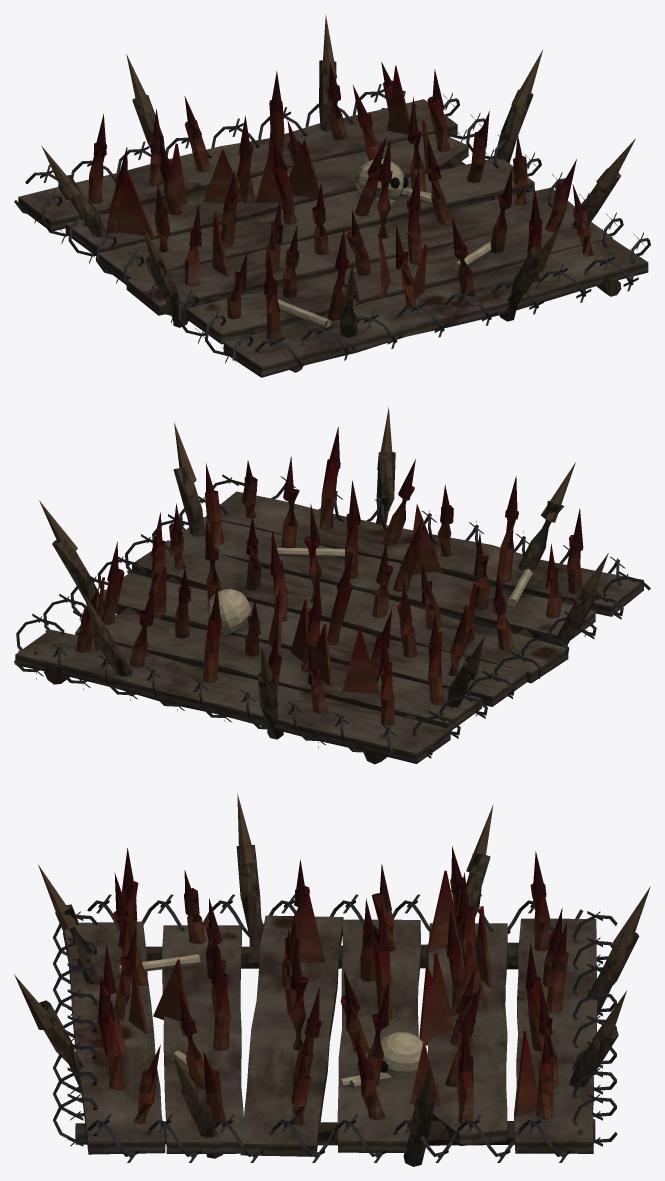
The model's file is spikes.glb.
3 renders of one model, top to bottom at view 1: azimuth 30°, elevation 25°; view 2: azimuth 150°, elevation 25°; view 3: azimuth 270°, elevation 25°, orthographic. The views are drawn at different scales.
Visible parts, largest first — view 1: Lv1, Lv2, Lv3; view 2: Lv1, Lv2, Lv3; view 3: Lv1, Lv2, Lv3.
Boxes of the visible parts, x1=… form: Lv1: x1=18, y1=62, x2=648, y2=377; Lv2: x1=41, y1=14, x2=635, y2=337; Lv3: x1=14, y1=84, x2=650, y2=371; Lv1: x1=15, y1=427, x2=643, y2=764; Lv2: x1=39, y1=407, x2=608, y2=739; Lv3: x1=14, y1=474, x2=650, y2=758; Lv1: x1=63, y1=846, x2=597, y2=1156; Lv2: x1=14, y1=793, x2=650, y2=1166; Lv3: x1=52, y1=894, x2=617, y2=1162.
Bounding box in the file's own units: 2.45 × 0.5711 × 2.45.
1 material, 1 textured.
